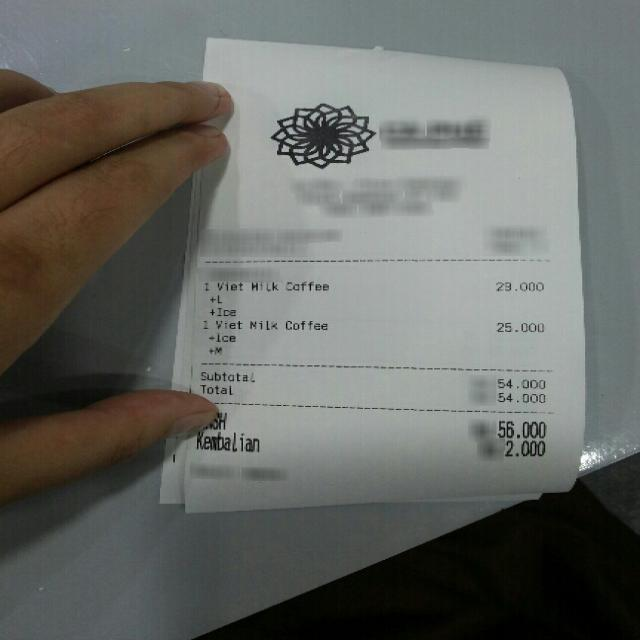kertas: (162, 37, 610, 540)
